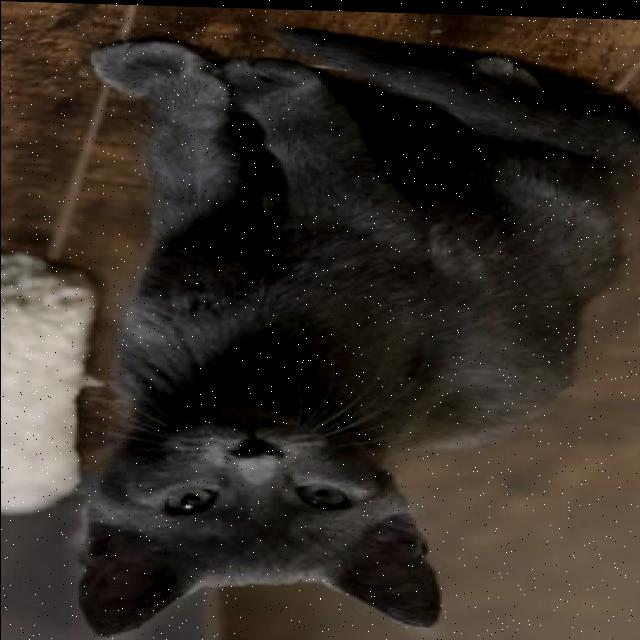Russian Blue: (69, 22, 640, 640)
